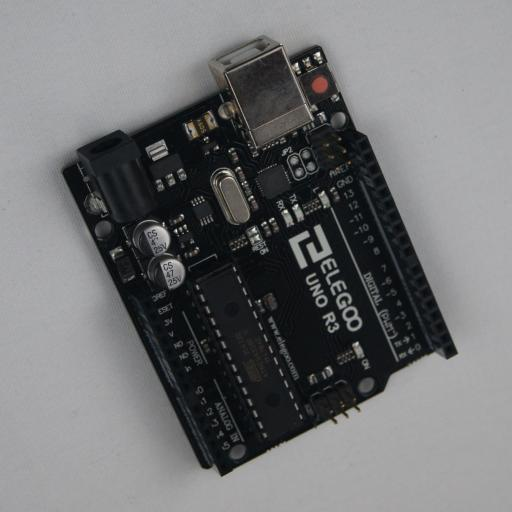Arduino Uno -Black-: (60, 38, 458, 477)
